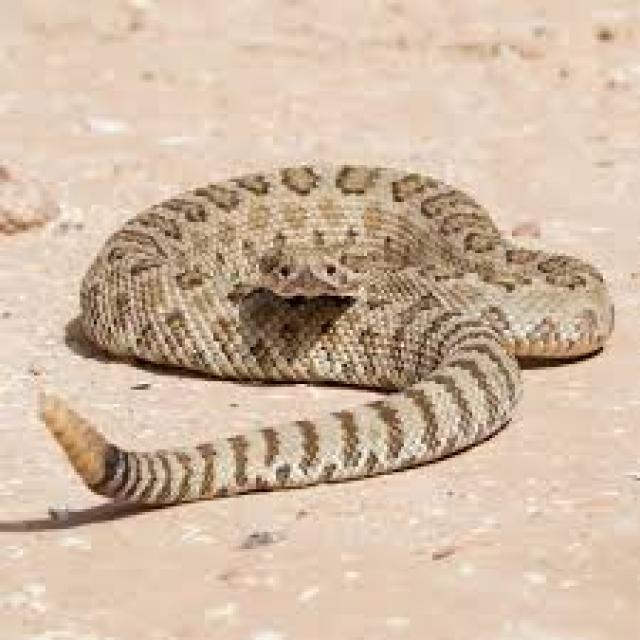Snake: (29, 139, 627, 528)
